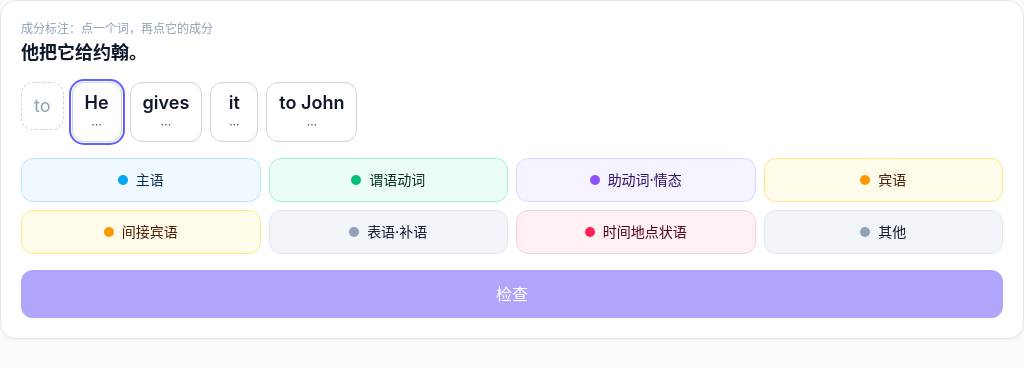
Test: LabelDrill › skips the tense question when the task has none and shows fixed words muted
Click the button "主语": point(141, 180) left=21, top=158, right=260, bottom=202
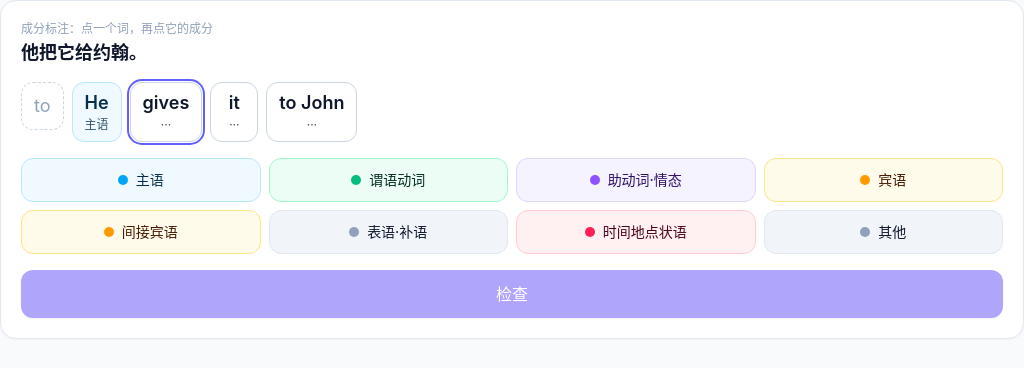
Click the button "谓语动词": point(388, 180) left=268, top=158, right=508, bottom=202
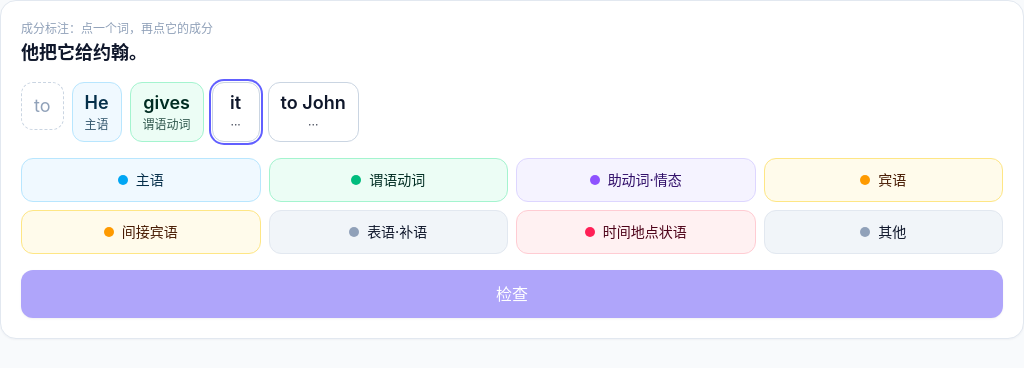
Click the button "宾语": point(883, 180) left=764, top=158, right=1003, bottom=202
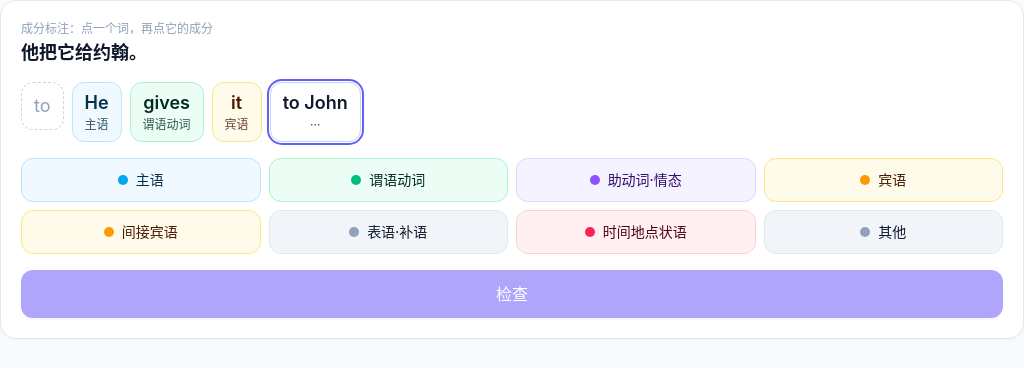
Click the button "间接宾语": point(141, 232) left=21, top=210, right=260, bottom=254
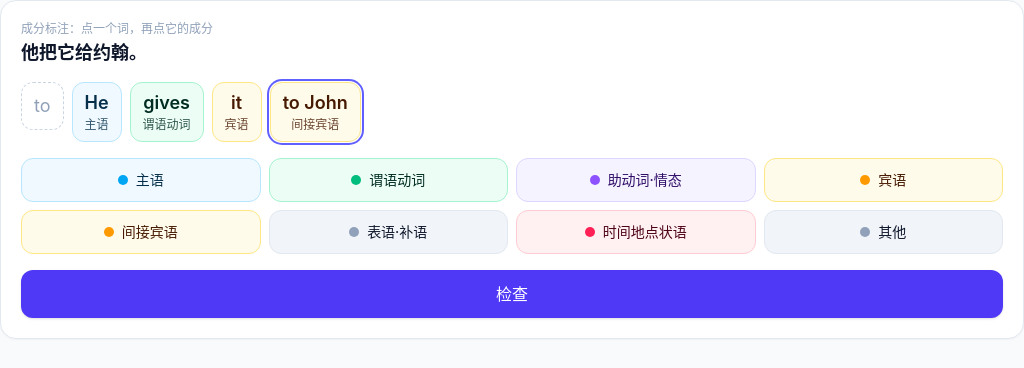
Now the button "检查" is enabled
Click the button "检查": point(512, 294) left=21, top=270, right=1003, bottom=318
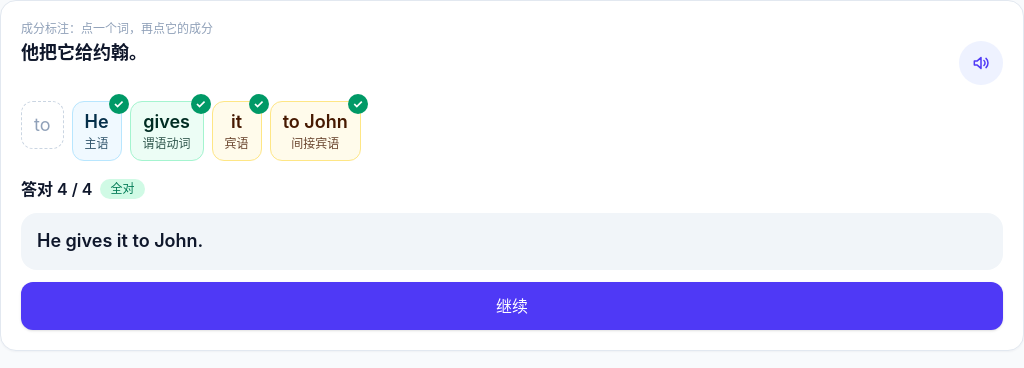
Now the text with test id "label-score" reads "答对 4 / 4", box left=21, top=177, right=92, bottom=201
